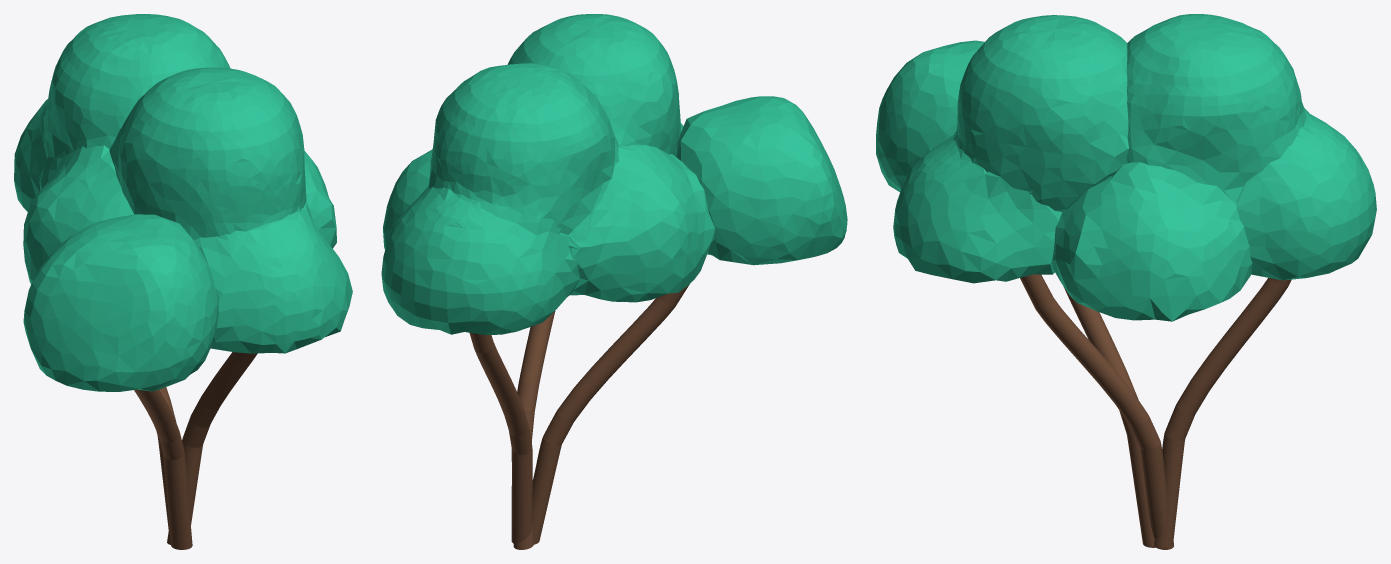
The model's file is tree.fbx.
The picture shows the model from 3 angles, left to right: view 1: azimuth 30°, elevation 25°; view 2: azimuth 150°, elevation 25°; view 3: azimuth 270°, elevation 25°; orthographic projection. The views are drawn at different scales.
Visible parts, largest first — view 1: Cylinder; view 2: Cylinder; view 3: Cylinder.
Part boxes in pixels (x1,y1,x2,y2): Cylinder: (14, 14, 352, 549); Cylinder: (381, 14, 847, 549); Cylinder: (876, 14, 1376, 549).
Size of the model in its own units: 430 by 554 by 493.
